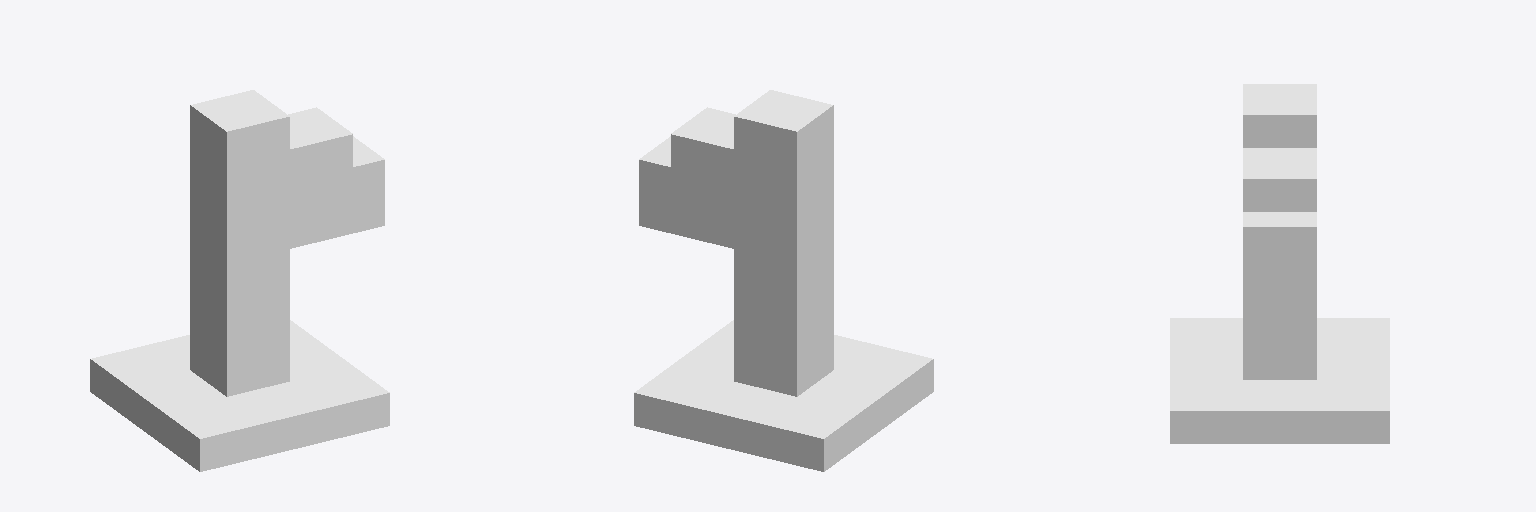
Rendered from FlagModel.obj.
The picture shows the model from 3 angles: view 1: azimuth 30°, elevation 25°; view 2: azimuth 150°, elevation 25°; view 3: azimuth 270°, elevation 25°; orthographic projection.
Size of the model in its own units: 7 by 9 by 6.